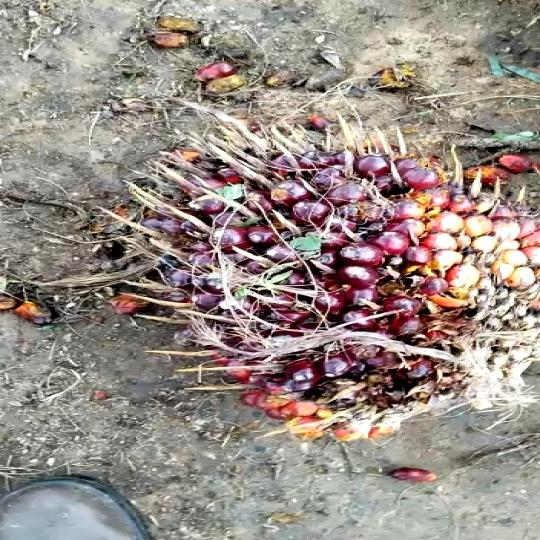masak: (93, 136, 540, 429)
